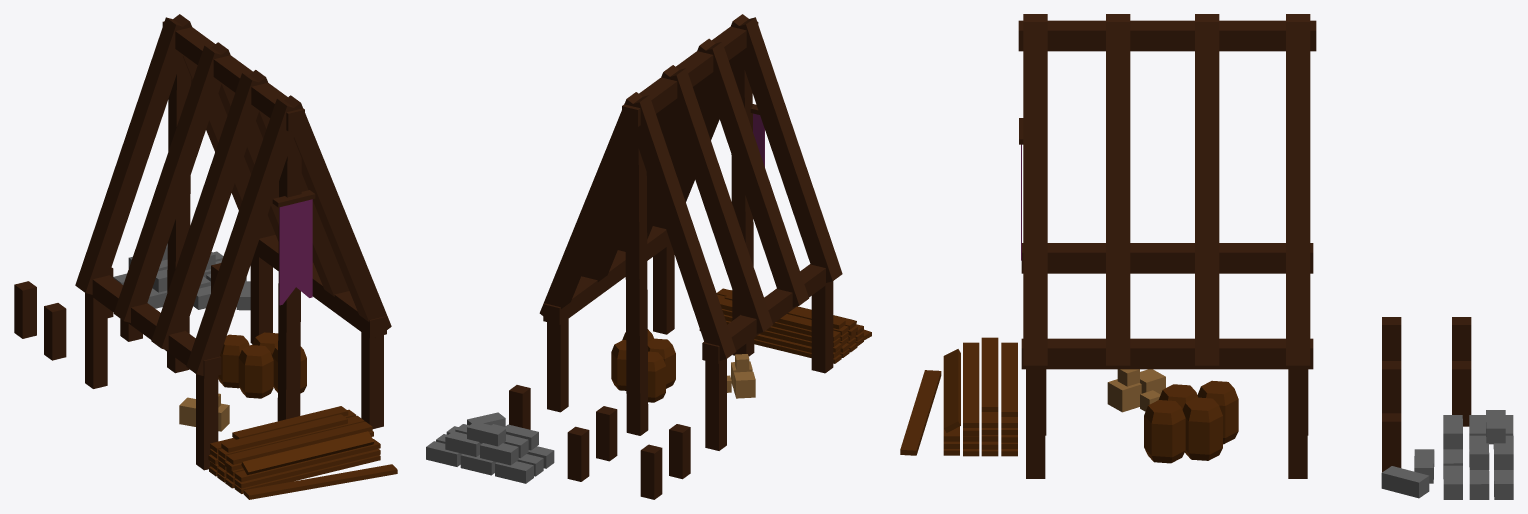
File: TavernBuildPhase2v2.fbx
3 renders of one model, left to right at view 1: azimuth 30°, elevation 25°; view 2: azimuth 150°, elevation 25°; view 3: azimuth 270°, elevation 25°, orthographic. The views are drawn at different scales.
Parts seen in each view (by area): view 1: Cube.2309; view 2: Cube.2309; view 3: Cube.2309.
Part boxes in pixels (x1,y1,x2,y2): Cube.2309: [14, 14, 397, 499]; Cube.2309: [426, 14, 871, 499]; Cube.2309: [900, 14, 1513, 499].
Bounding box in the file's own units: 108 × 158 × 212.
